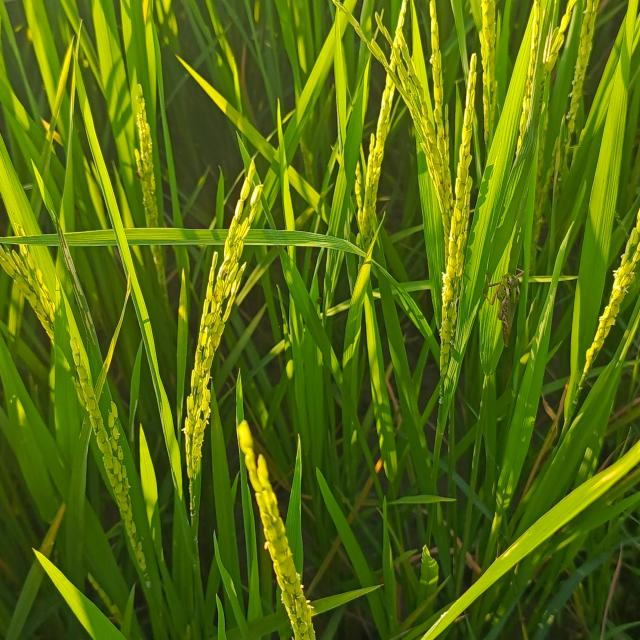belalang pada tanaman padi: (484, 266, 527, 348)
